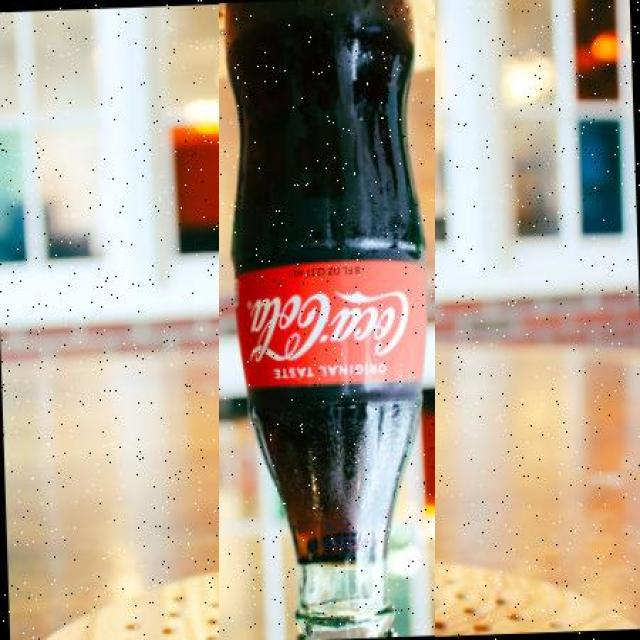coca-cola: (219, 0, 435, 640)
